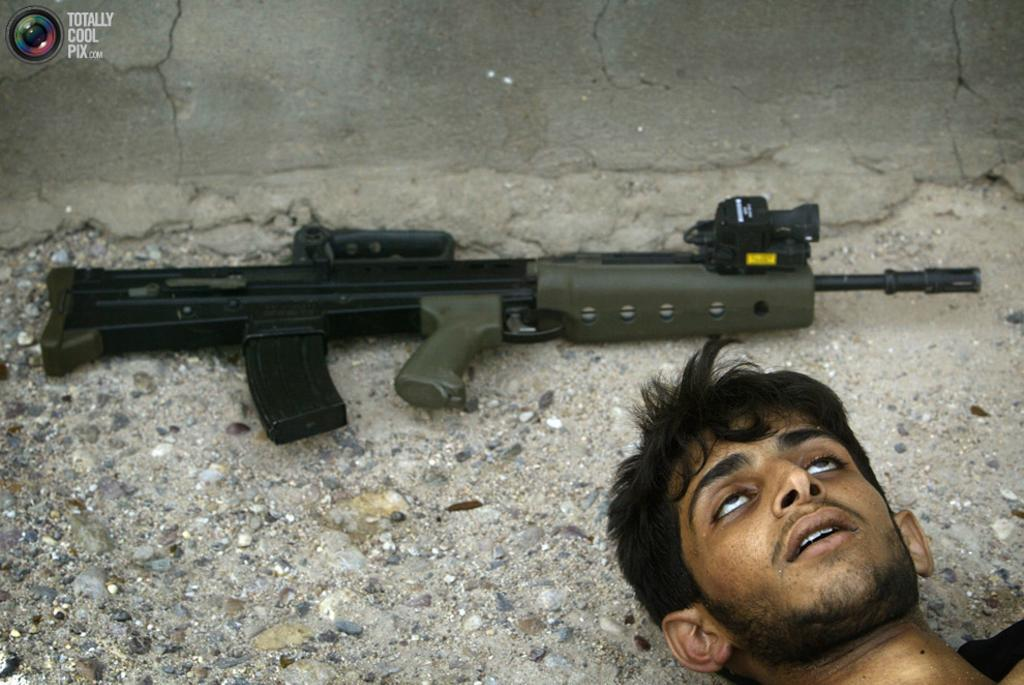face: (676, 410, 880, 614)
